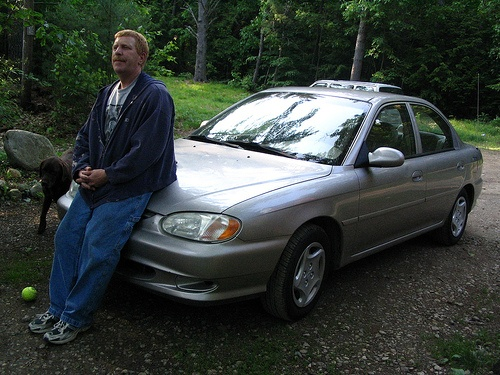head: (111, 31, 150, 83)
person: (17, 29, 185, 339)
